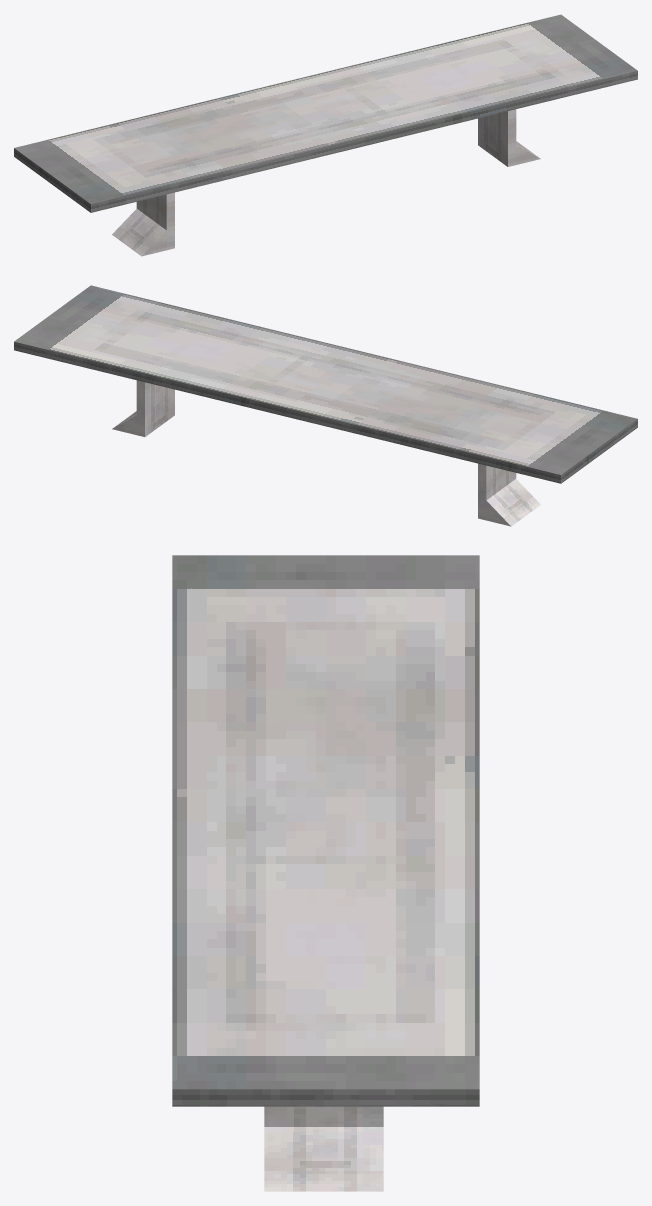
File: frn_all_mdrn_dining_table_s01_l3.fbx
The picture shows the model from 3 angles, top to bottom: view 1: azimuth 30°, elevation 25°; view 2: azimuth 150°, elevation 25°; view 3: azimuth 270°, elevation 25°; orthographic projection. The views are drawn at different scales.
Parts seen in each view (by area): view 1: mesh_node; view 2: mesh_node; view 3: mesh_node.
Boxes of the visible parts, bbox=[...] form: mesh_node: bbox=[14, 14, 637, 256]; mesh_node: bbox=[14, 285, 637, 526]; mesh_node: bbox=[172, 555, 479, 1191].
Bounding box in the file's own units: 6.57 × 1 × 1.6.
1 material, 1 textured.
